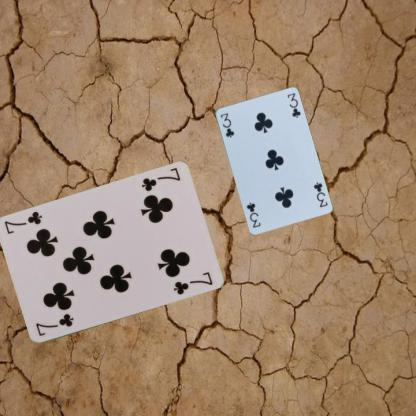3c: (311, 180, 329, 209), (218, 110, 235, 139)
7c: (139, 165, 182, 193), (33, 311, 74, 337)
